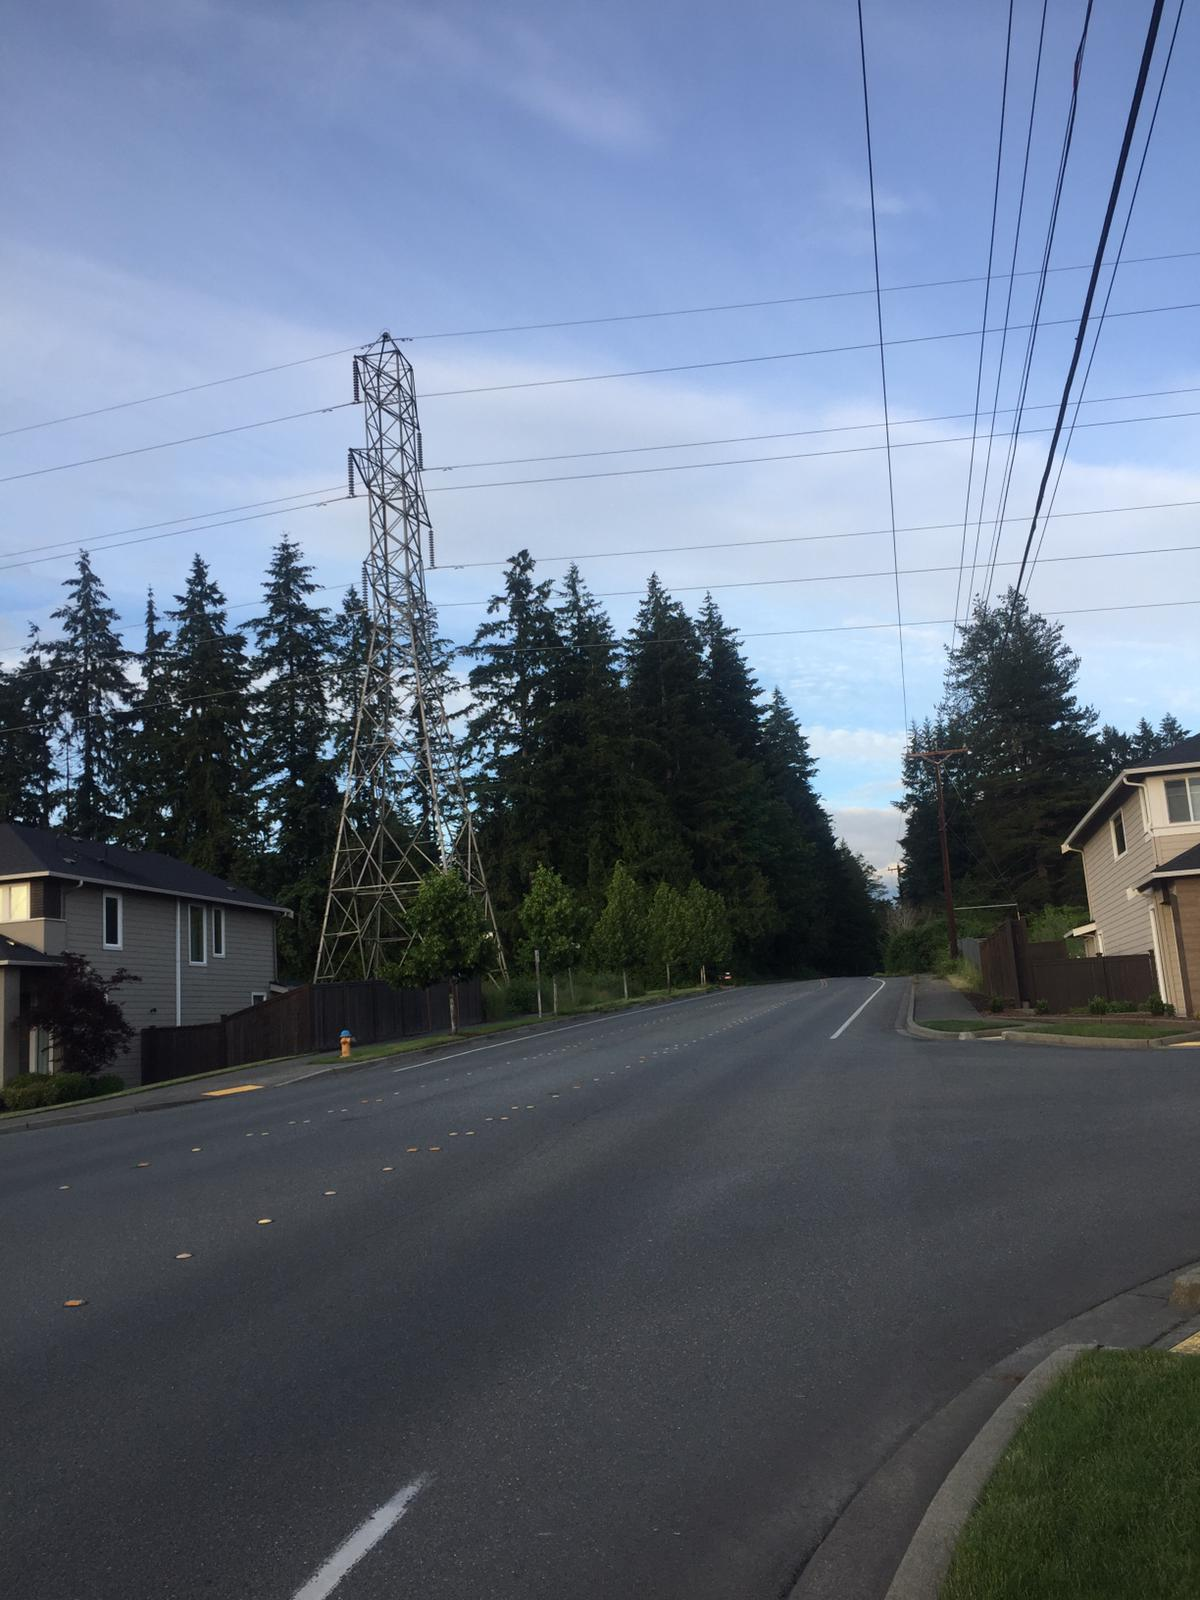plants: (470, 557, 701, 971), (103, 554, 357, 853), (942, 592, 1089, 881), (713, 622, 778, 973), (5, 632, 88, 847), (790, 712, 826, 986), (837, 837, 887, 963)
